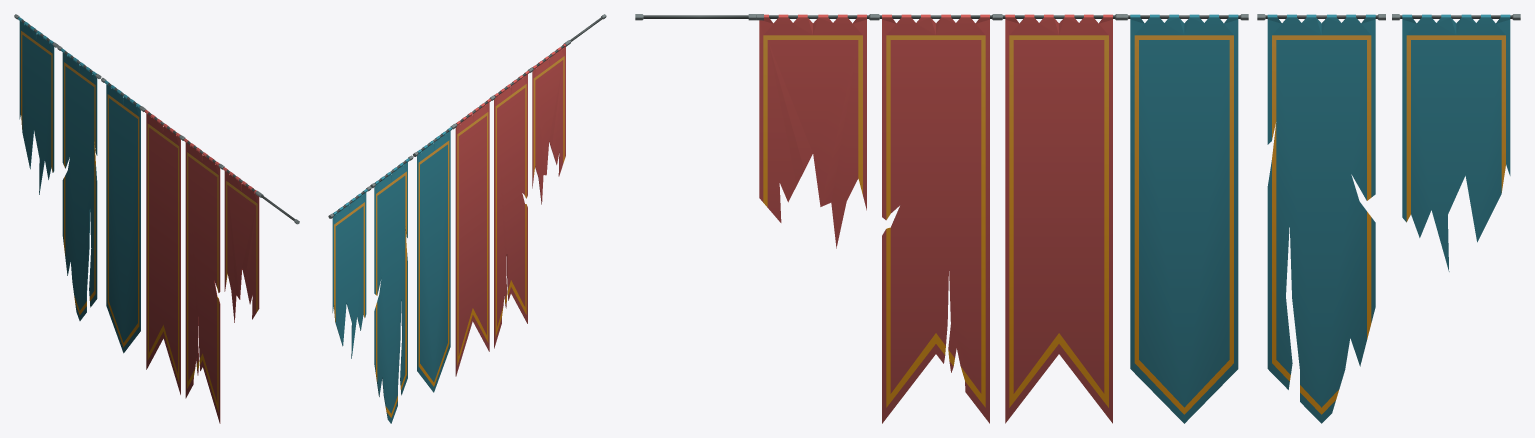
File: Flags.fbx
3 views of the same model, side by side, from view 1: azimuth 30°, elevation 25°; view 2: azimuth 150°, elevation 25°; view 3: azimuth 270°, elevation 25° (orthographic). The views are drawn at different scales.
Parts seen in each view (by area): view 1: Flag.001, Flag.003, Flag.002, Flag.004, Flag.005, Flag; view 2: Flag.002, Flag.003, Flag.001, Flag.004, Flag.005, Flag; view 3: Flag.003, Flag.002, Flag.001, Flag.004, Flag.005, Flag.
Part boxes in pixels (x1,y1,x2,y2): Flag.001: (180,136,222,423); Flag.003: (101,77,143,353); Flag.002: (142,107,183,394); Flag.004: (57,45,101,320); Flag.005: (14,14,58,194); Flag: (219,164,263,322); Flag.002: (453,96,494,376); Flag.003: (413,124,454,392); Flag.001: (491,68,532,348); Flag.004: (370,155,413,423); Flag.005: (328,186,371,358); Flag: (531,40,571,204); Flag.003: (1120,14,1248,423); Flag.002: (994,14,1123,423); Flag.001: (871,14,1000,423); Flag.004: (1257,14,1385,423); Flag.005: (1392,14,1520,271); Flag: (748,14,876,248).
Size of the model in its own units: 0.0479 by 3.34 by 6.54.
